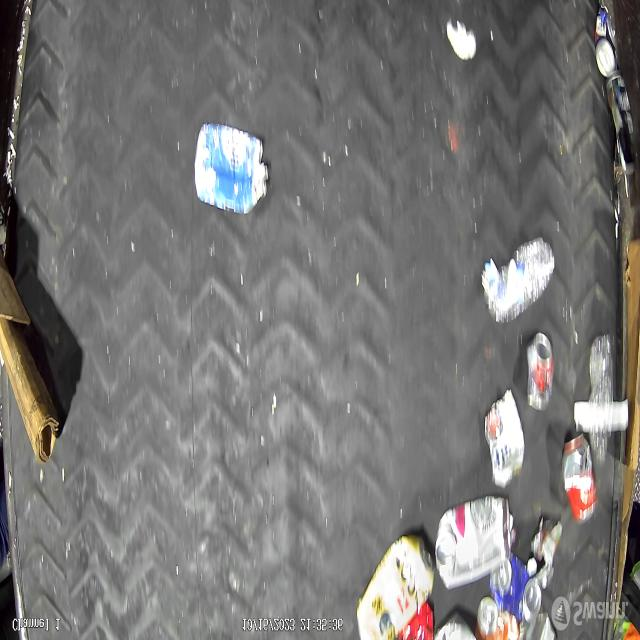can: (484, 388, 525, 489), (489, 550, 542, 624), (561, 432, 597, 526), (526, 332, 554, 412), (475, 596, 519, 640), (595, 3, 618, 79)
plastic_bottle: (482, 237, 556, 325), (588, 333, 614, 468)
